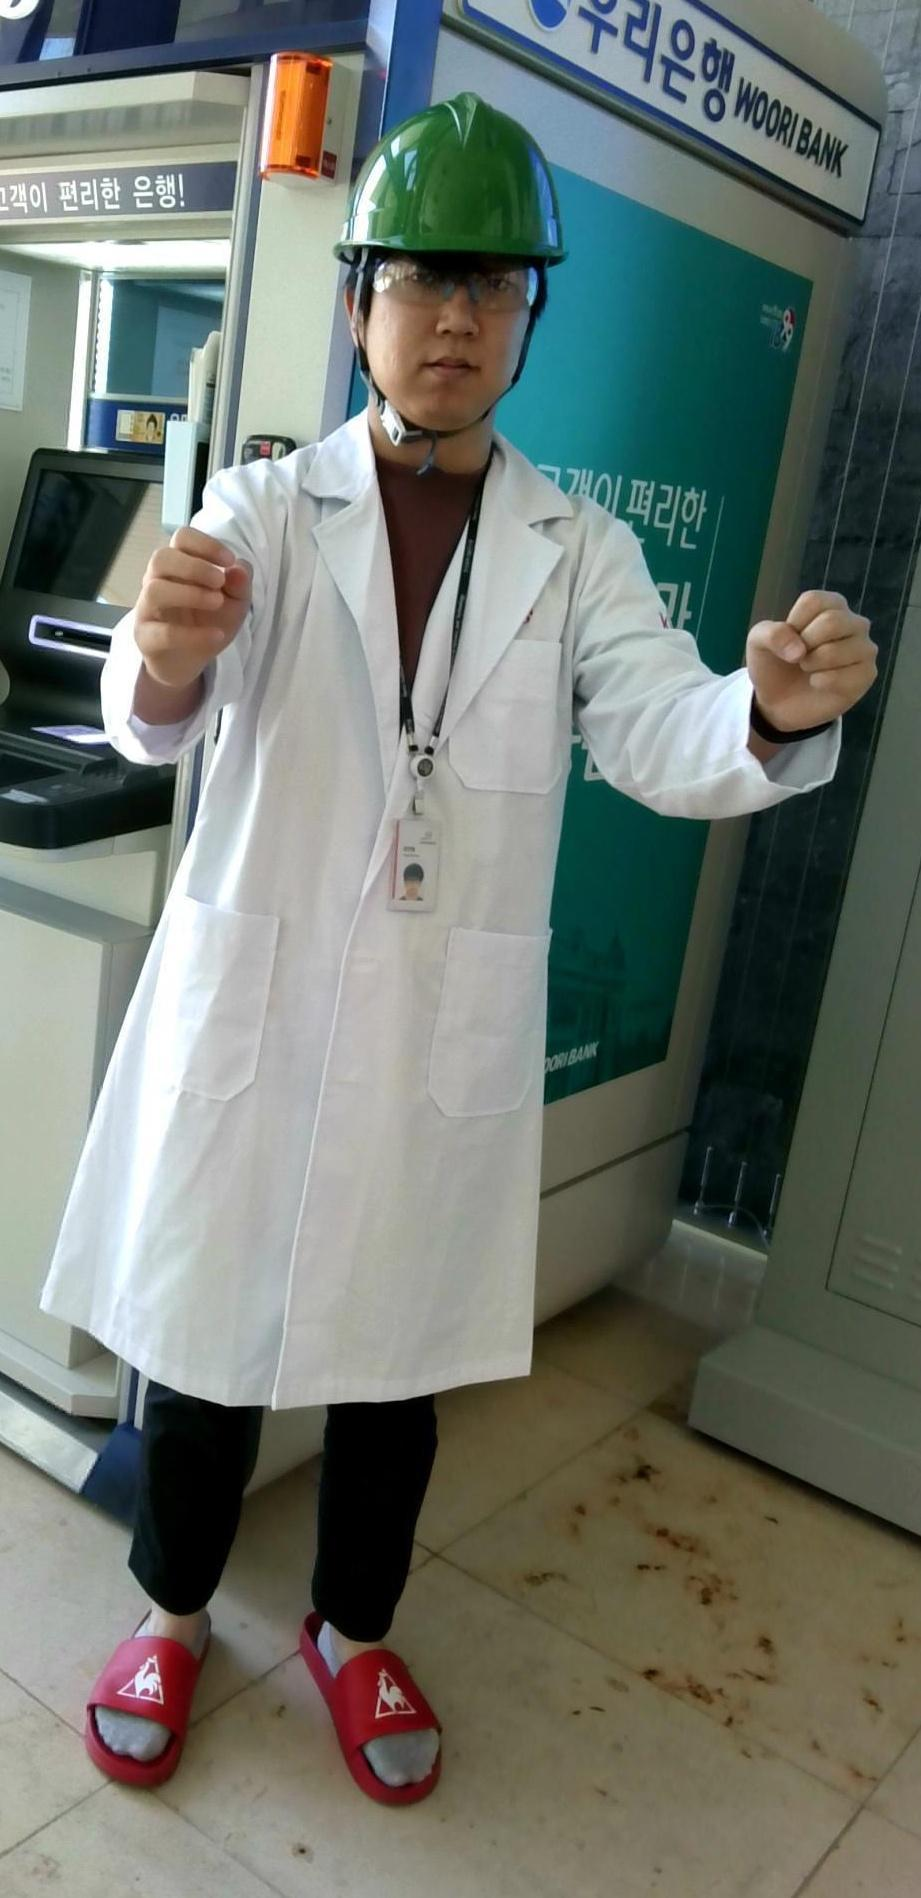lab_coat: (228, 456, 574, 1401)
